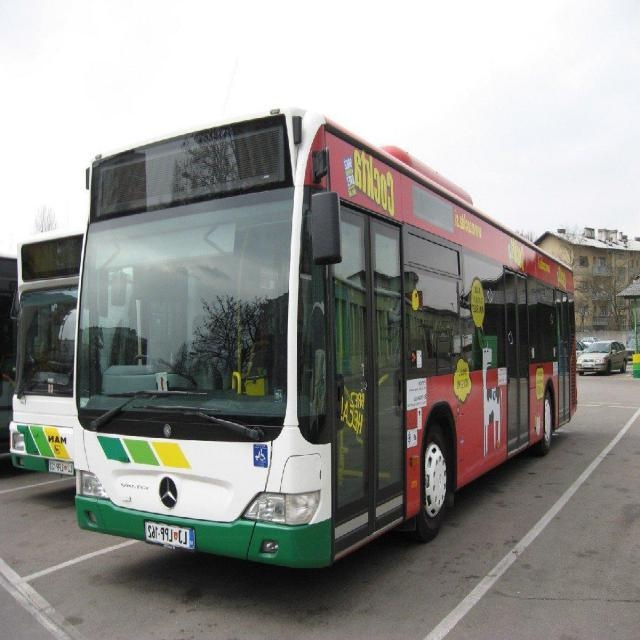bus: (45, 121, 639, 560), (0, 195, 123, 493)
